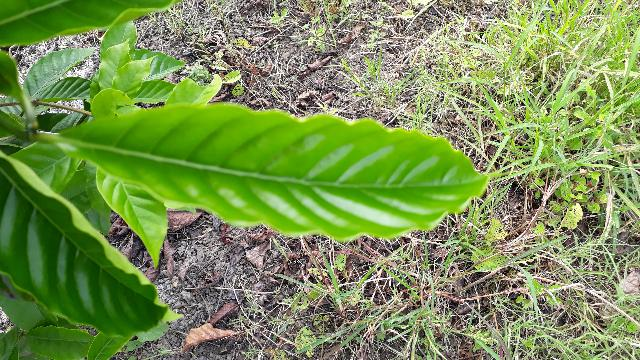healthy: (152, 123, 586, 255)
